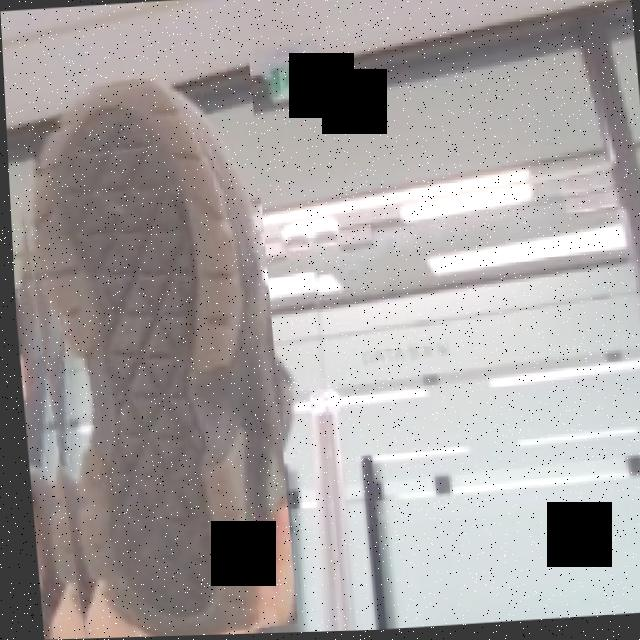shoe: (2, 53, 291, 640)
